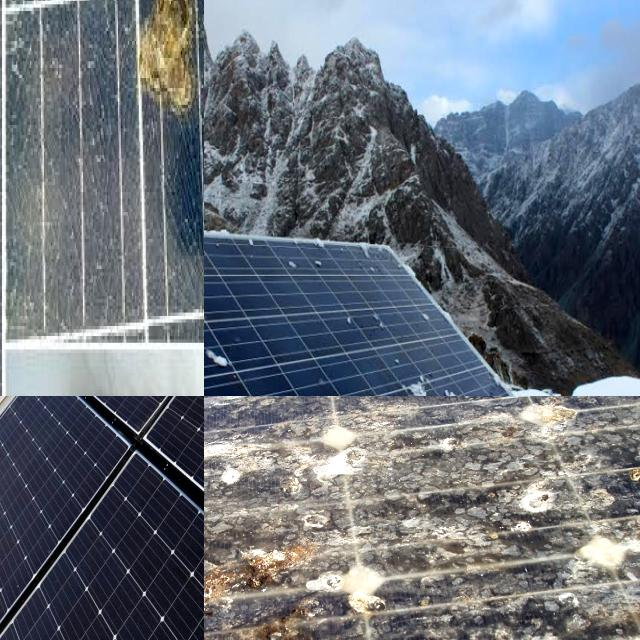bird: (462, 404, 590, 580), (223, 396, 441, 495), (204, 424, 265, 635), (204, 520, 352, 574), (204, 617, 387, 640)
crack: (0, 451, 204, 640), (0, 396, 132, 640), (121, 396, 204, 640), (35, 396, 204, 504), (0, 396, 57, 455)
panel: (396, 359, 471, 396), (278, 248, 339, 282), (330, 310, 407, 336), (204, 338, 251, 376), (352, 244, 392, 277), (423, 294, 446, 330), (204, 247, 233, 271), (204, 251, 227, 271)
shadow: (120, 0, 204, 119), (0, 194, 37, 391)
